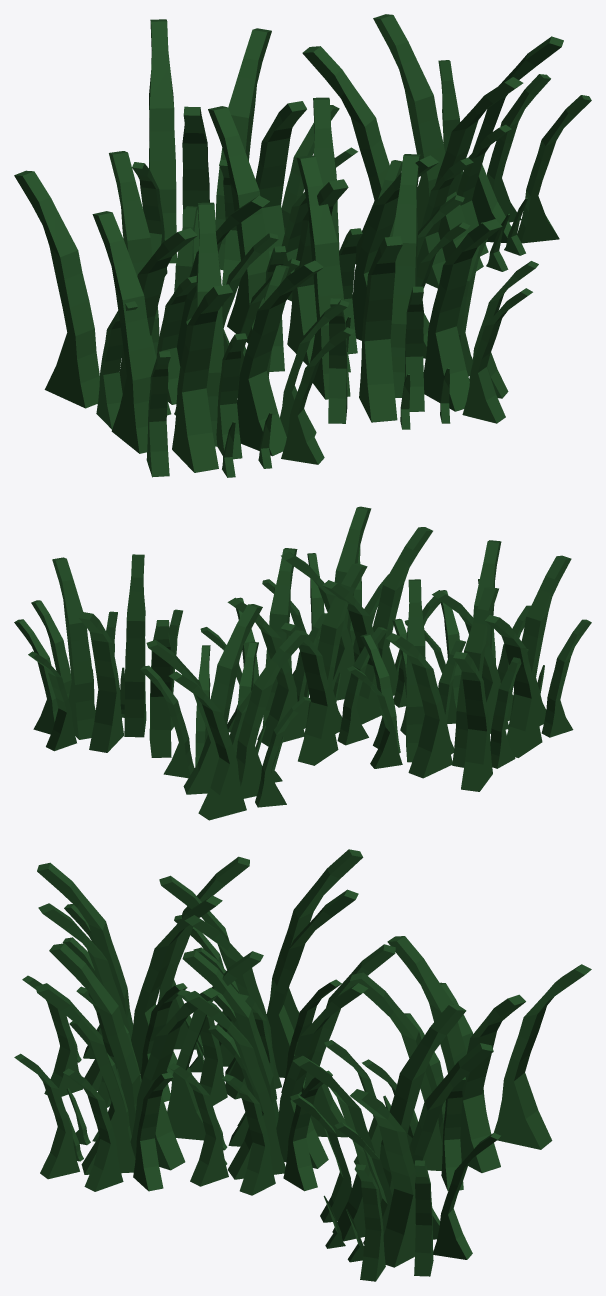
File: GrassNorm.fbx
The picture shows the model from 3 angles, top to bottom: view 1: azimuth 30°, elevation 25°; view 2: azimuth 150°, elevation 25°; view 3: azimuth 270°, elevation 25°; orthographic projection. The views are drawn at different scales.
Visible parts, largest first — view 1: Grass; view 2: Grass; view 3: Grass.
Part boxes in pixels (x1=…): Grass: x1=14, y1=14, x2=591, y2=477; Grass: x1=14, y1=506, x2=591, y2=820; Grass: x1=14, y1=849, x2=591, y2=1281.
Bounding box in the file's own units: 48.42 × 15.77 × 44.47.
